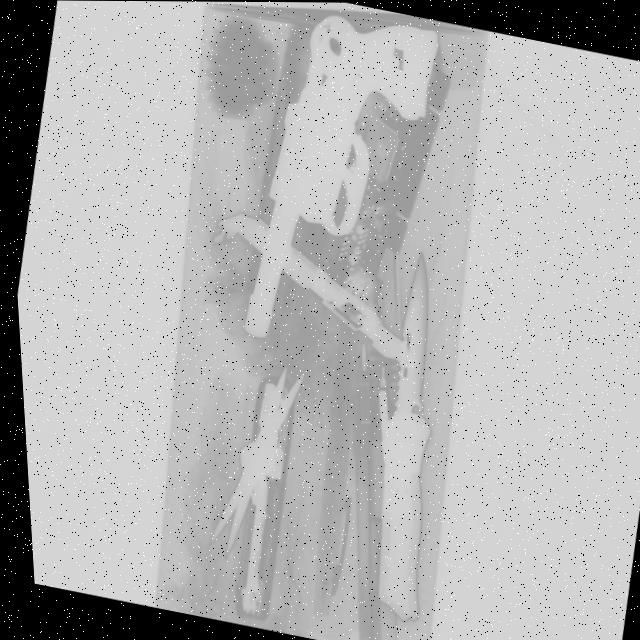knife: (329, 242, 483, 627)
pistol: (220, 1, 456, 366)
